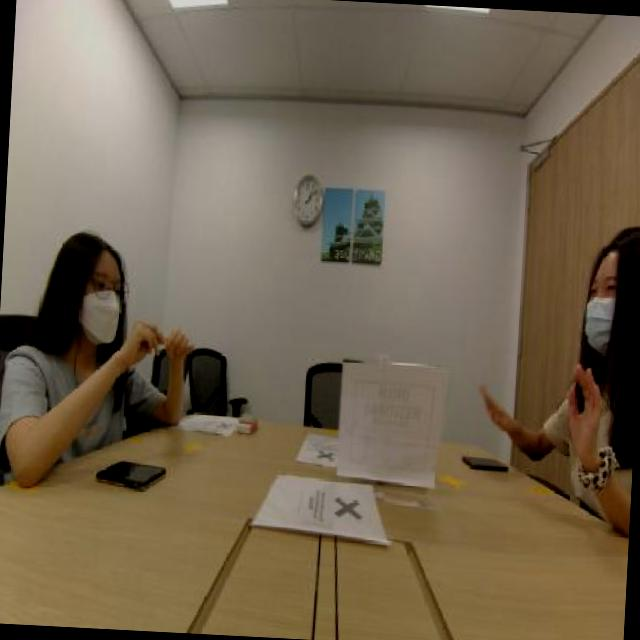Person: (0, 181, 159, 481), (550, 197, 640, 516)
